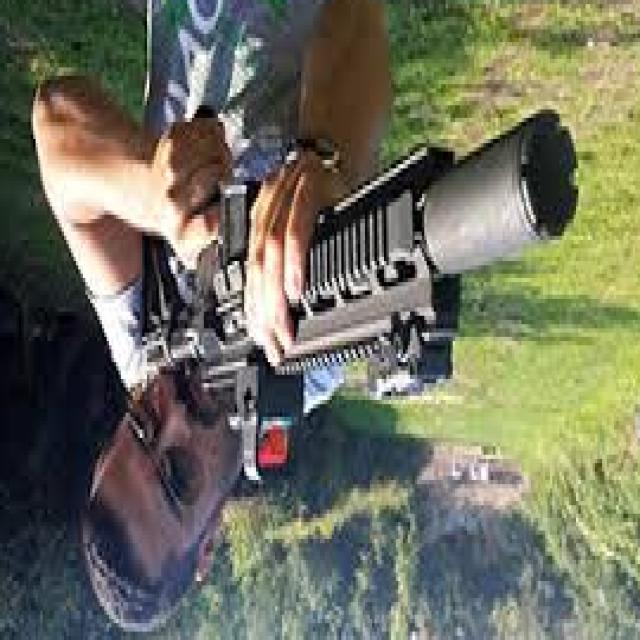gun: (97, 93, 587, 480)
